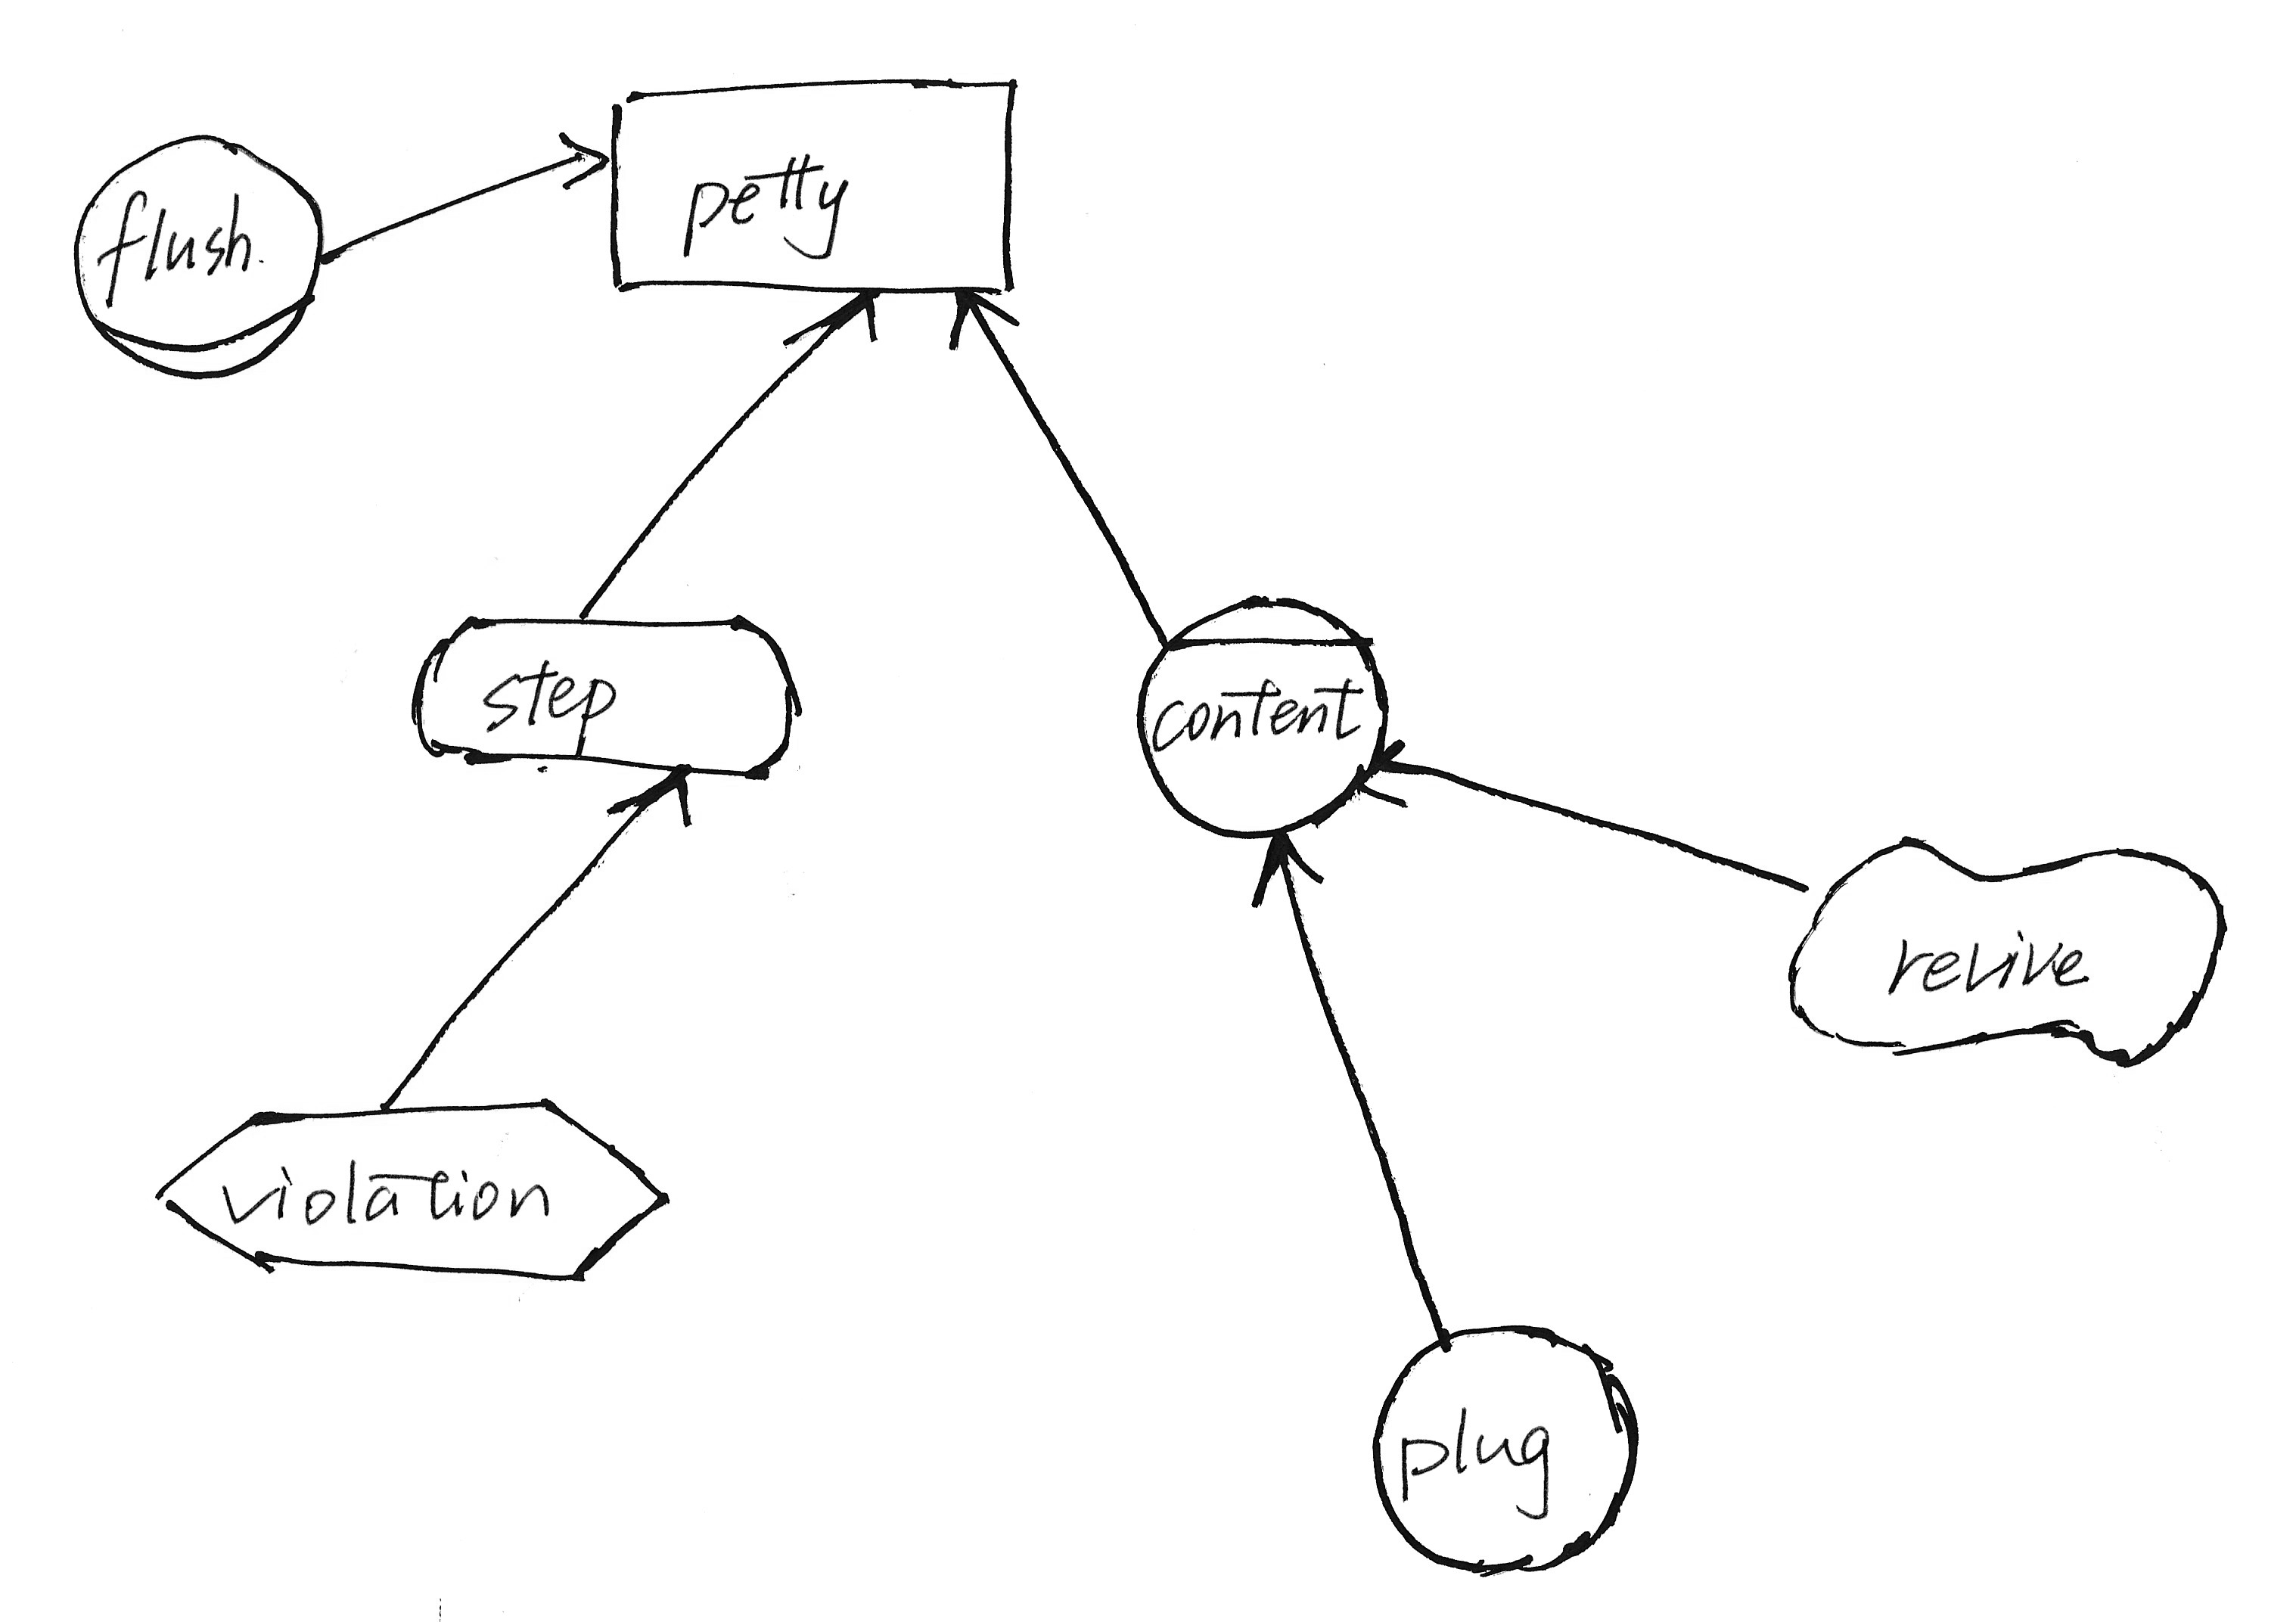actor: (1362, 1308, 1655, 1580)
agent: (1118, 576, 1401, 851)
arrow: (774, 270, 890, 367), (1234, 813, 1332, 915), (927, 270, 1030, 362), (599, 755, 709, 837), (1334, 727, 1429, 813), (553, 119, 618, 204)
goal: (395, 595, 816, 792)
quality: (1766, 816, 2247, 1081)
resource: (588, 56, 1032, 312)
role: (60, 116, 337, 395)
task: (133, 1074, 692, 1299)
